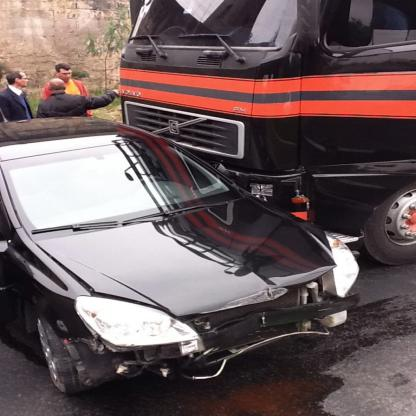Car: (0, 116, 362, 398)
